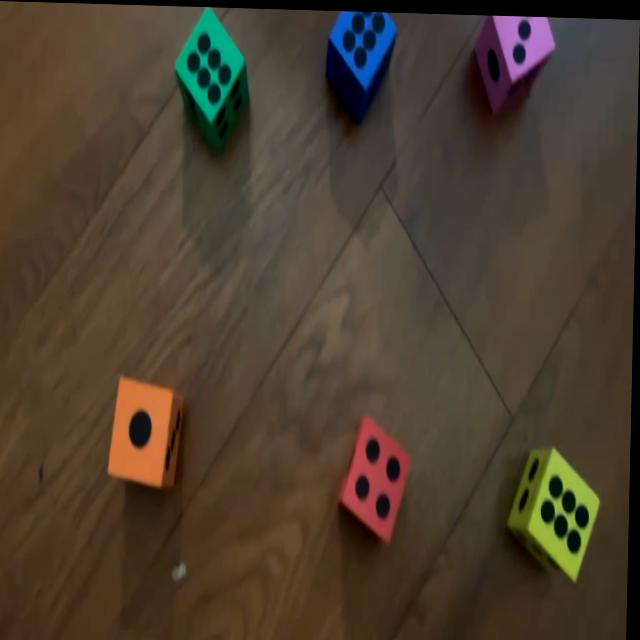cube: (173, 4, 252, 152), (341, 411, 413, 538), (326, 8, 398, 124)
